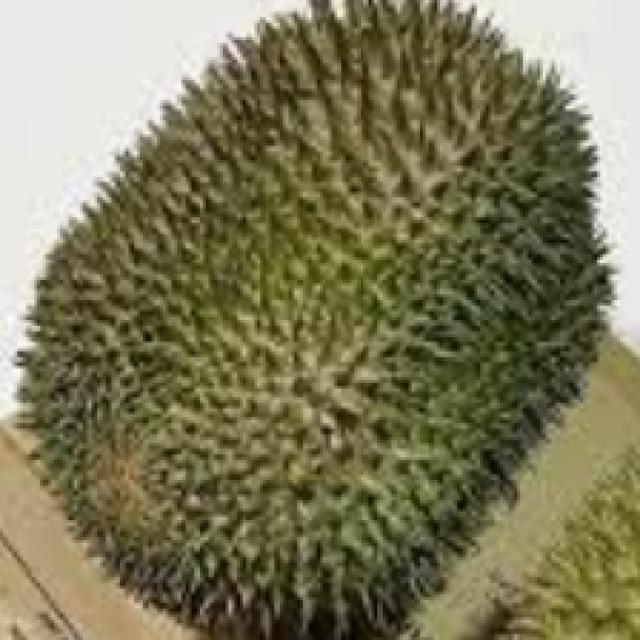d101: (27, 5, 590, 557)
